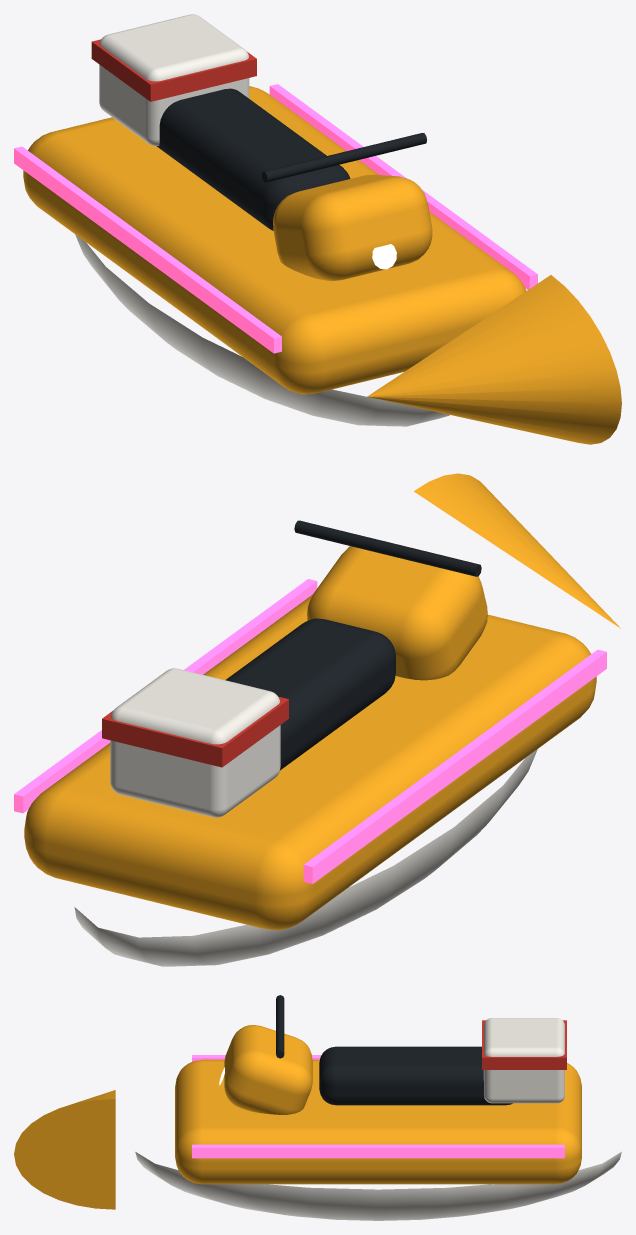
Rendered from jet-ski.glb.
3 renders of one model, top to bottom at view 1: azimuth 30°, elevation 25°; view 2: azimuth 150°, elevation 25°; view 3: azimuth 270°, elevation 25°, orthographic. The views are drawn at different scales.
Visible parts, largest first — view 1: jetski paint, jetski white, jetski dark, jetski neon, jetski box stripe; view 2: jetski paint, jetski white, jetski dark, jetski neon, jetski box stripe; view 3: jetski paint, jetski white, jetski dark, jetski neon, jetski box stripe.
Boxes of the visible parts, x1,y1,x2,y2 form: jetski paint: (23, 86, 621, 444); jetski white: (75, 14, 449, 426); jetski dark: (156, 88, 426, 230); jetski neon: (14, 84, 537, 353); jetski box stripe: (91, 39, 256, 101); jetski paint: (24, 473, 620, 930); jetski white: (74, 668, 537, 966); jetski dark: (225, 520, 481, 770); jetski neon: (14, 579, 606, 883); jetski box stripe: (102, 696, 288, 767); jetski paint: (14, 1025, 581, 1209); jetski white: (135, 1018, 621, 1220); jetski dark: (276, 995, 512, 1105); jetski neon: (192, 1055, 564, 1158); jetski box stripe: (482, 1020, 566, 1069).
Bounding box in the file's own units: 1.29 × 1.2 × 3.59.
